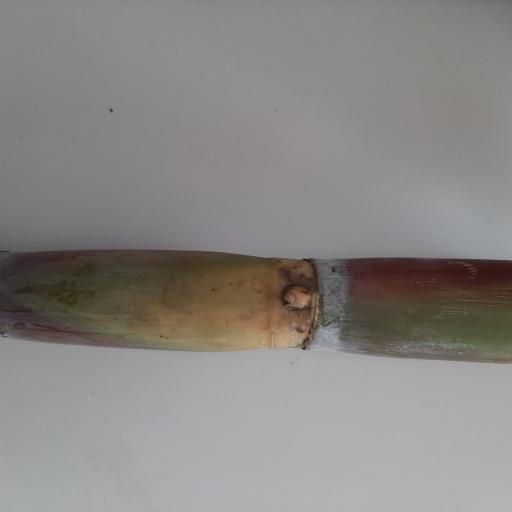Bud: (280, 281, 316, 309)
